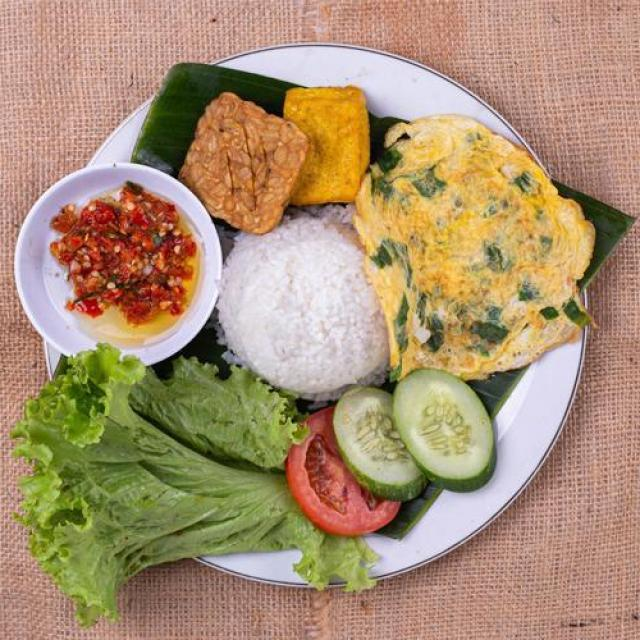nasi_putih: (224, 215, 380, 388)
telur_ayam_dadar: (384, 93, 588, 373)
